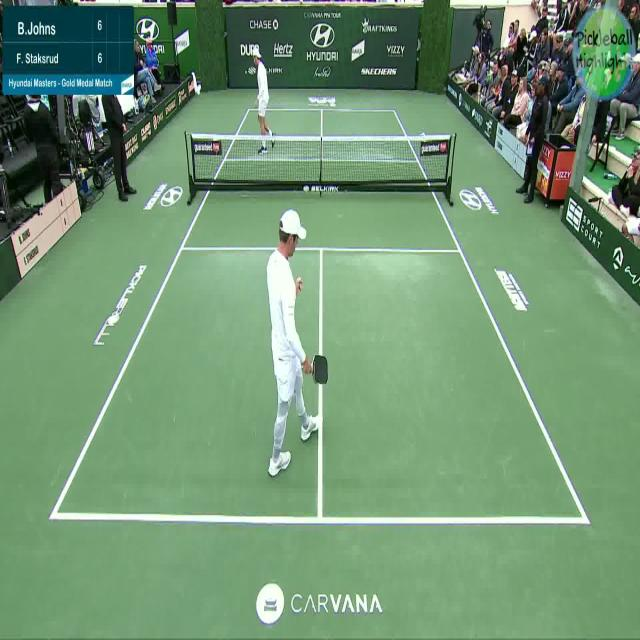Court: (50, 107, 588, 523)
